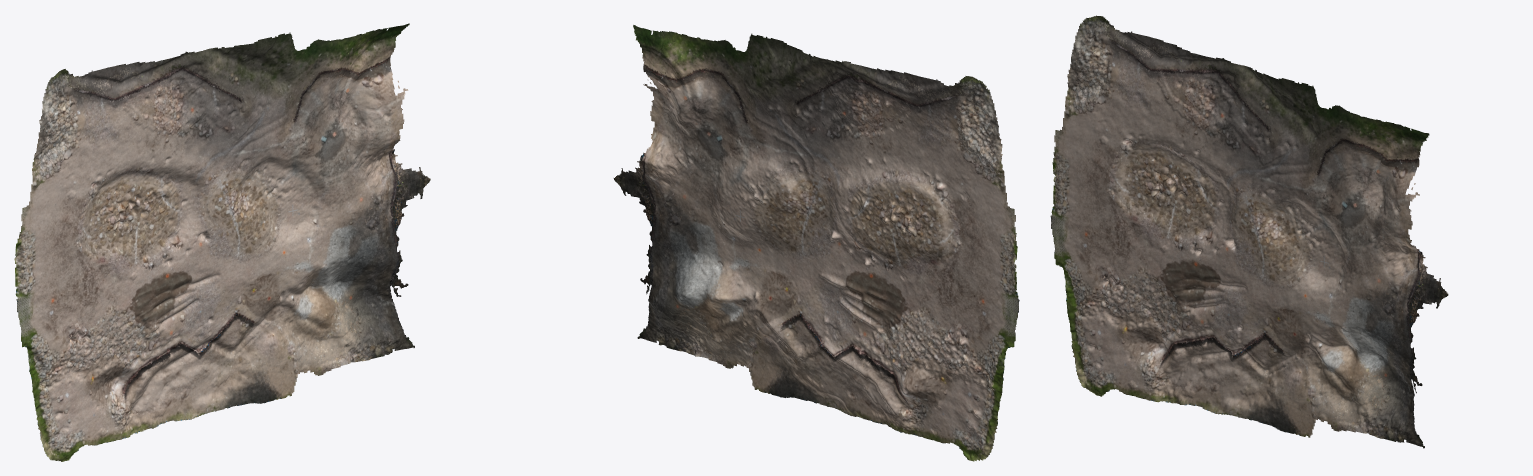
Rendered from mars_yard_exact_visual.obj.
3 views of the same model, side by side, from view 1: azimuth 30°, elevation 25°; view 2: azimuth 150°, elevation 25°; view 3: azimuth 330°, elevation 25° (orthographic). The views are drawn at different scales.
Visible parts, largest first — view 1: mars_yard_exact; view 2: mars_yard_exact; view 3: mars_yard_exact.
Part boxes in pixels (x1=…): mars_yard_exact: x1=14, y1=23, x2=430, y2=461; mars_yard_exact: x1=613, y1=25, x2=1019, y2=461; mars_yard_exact: x1=1050, y1=15, x2=1448, y2=448.
Bounding box in the file's own units: 34.64 × 26.56 × 2.24.
1 material, 1 textured.
